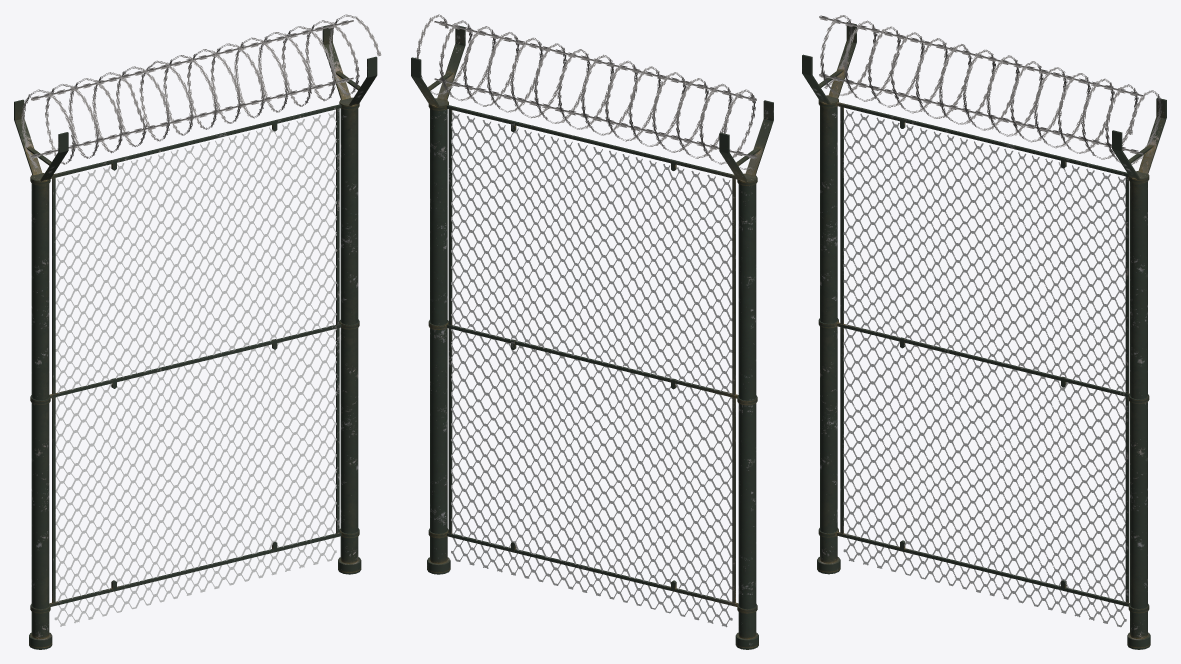
File: SM_Fence_Exterior_Short.fbx
The picture shows the model from 3 angles, left to right: view 1: azimuth 30°, elevation 25°; view 2: azimuth 150°, elevation 25°; view 3: azimuth 330°, elevation 25°; orthographic projection.
Visible parts, largest first — view 1: SM_Fence_Exterior_Short; view 2: SM_Fence_Exterior_Short; view 3: SM_Fence_Exterior_Short.
Part boxes in pixels (x1=…): SM_Fence_Exterior_Short: x1=14, y1=14, x2=381, y2=649; SM_Fence_Exterior_Short: x1=411, y1=14, x2=773, y2=649; SM_Fence_Exterior_Short: x1=802, y1=15, x2=1166, y2=649.
Size of the model in its own units: 261 by 61.5 by 412.
1 material, 1 textured.
